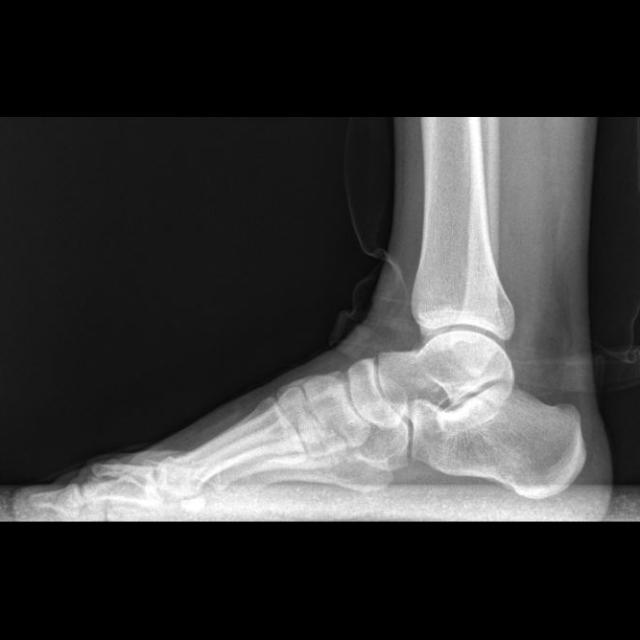a: (409, 385, 586, 502)
b: (347, 359, 396, 429)
c: (157, 399, 304, 496)
